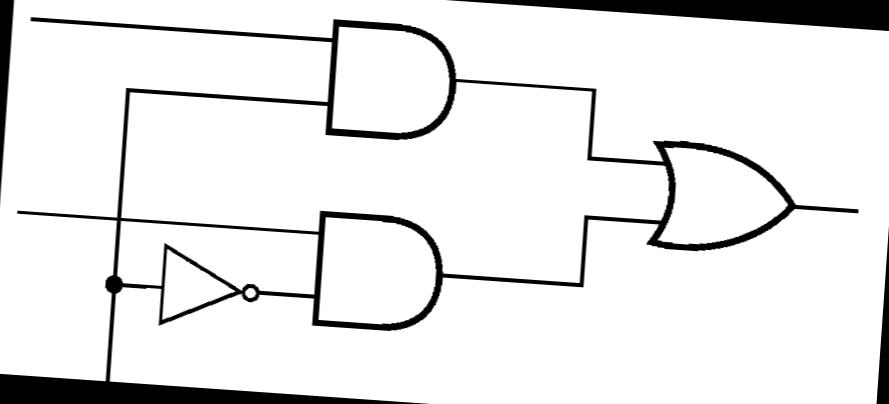and: (302, 200, 455, 342), (314, 9, 467, 149)
not: (150, 236, 266, 338)
or: (632, 130, 808, 264)
